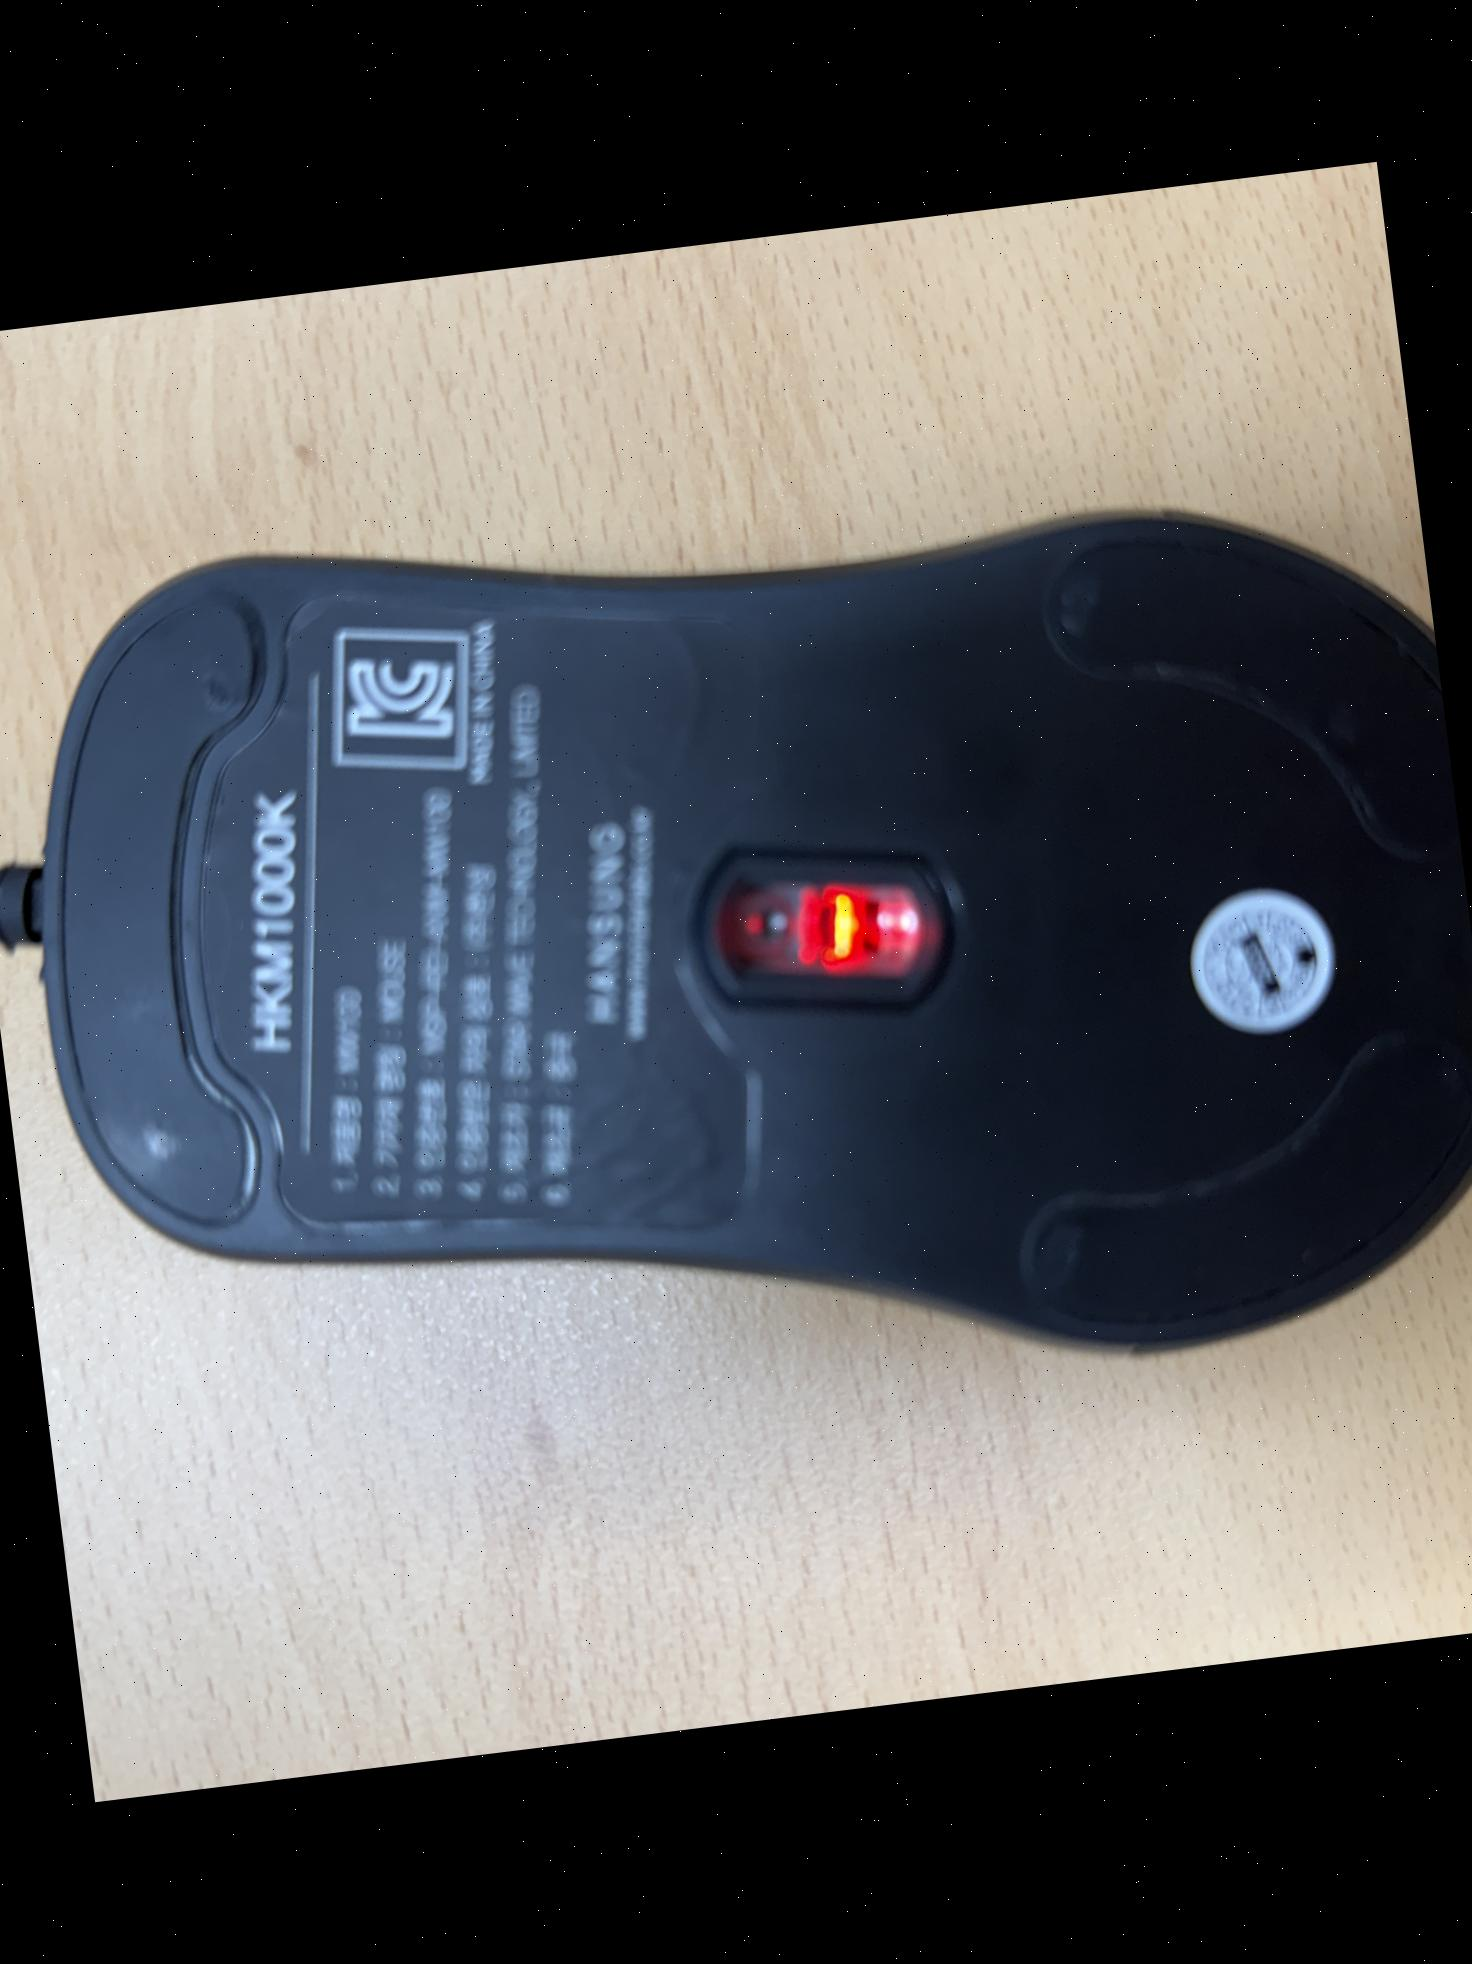back: (0, 407, 1472, 1495)
